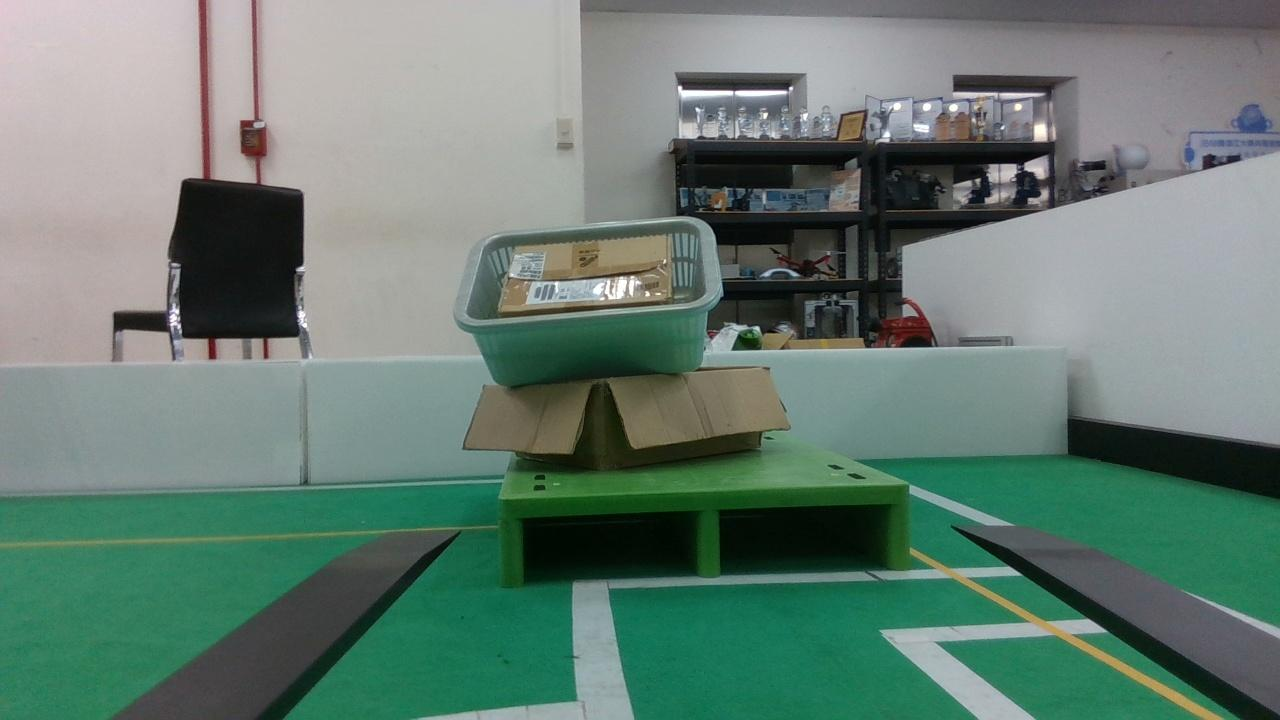Pallet: (500, 484, 909, 587)
